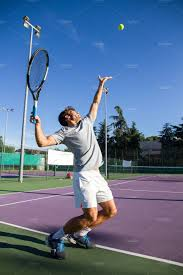tennis_ball: (115, 21, 126, 33)
